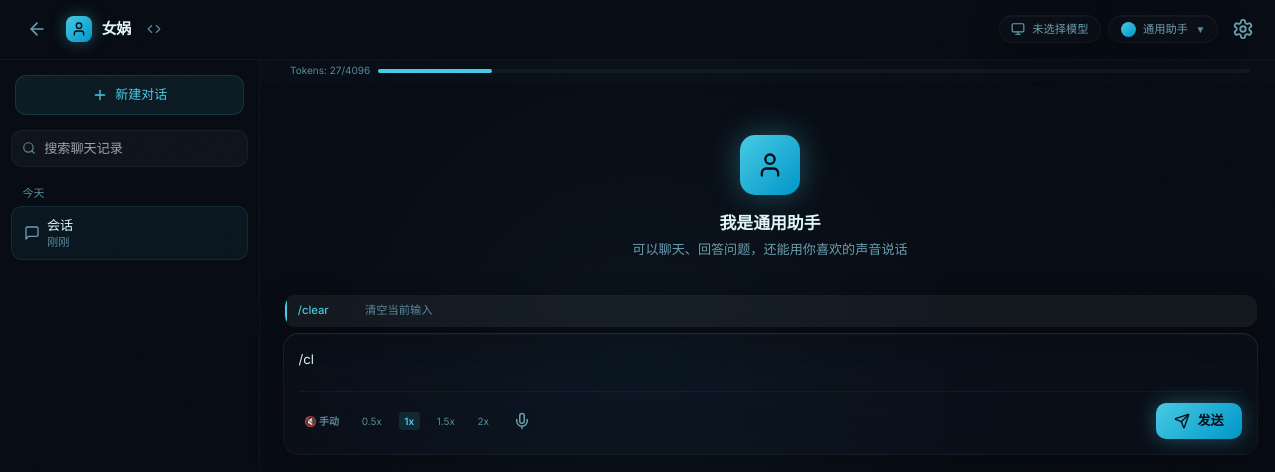
Scenario: 内置命令分发 (Req 5.2, 5.4, 5.5, 5.7) › /clear 清空输入并关闭菜单
Replace the text in the text box with placeholder "输入消息..." with "/clear" at (770, 361), box [298,349,1242,373]
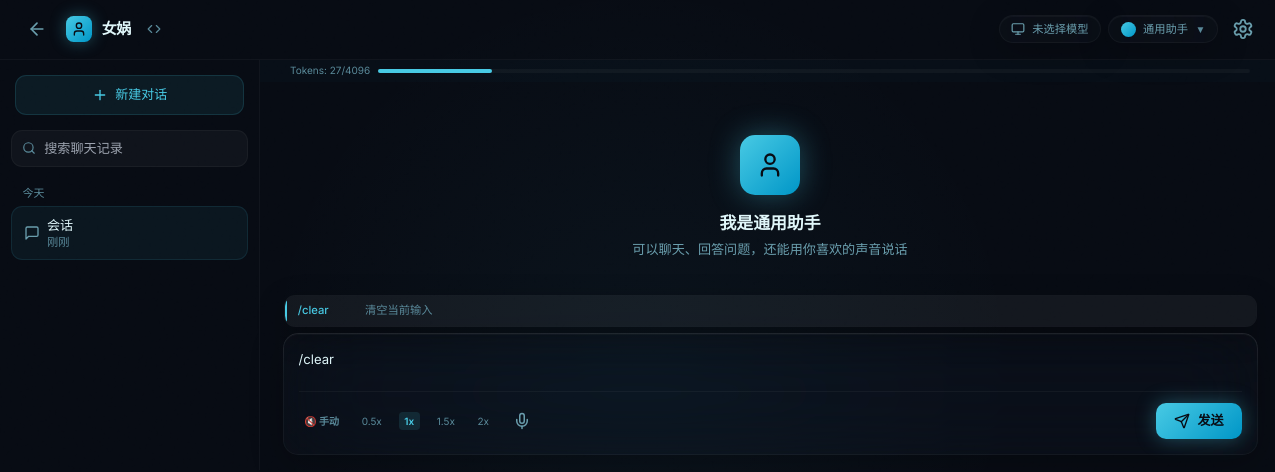
Press Enter in the text box with placeholder "输入消息...", box [298,349,1242,373]
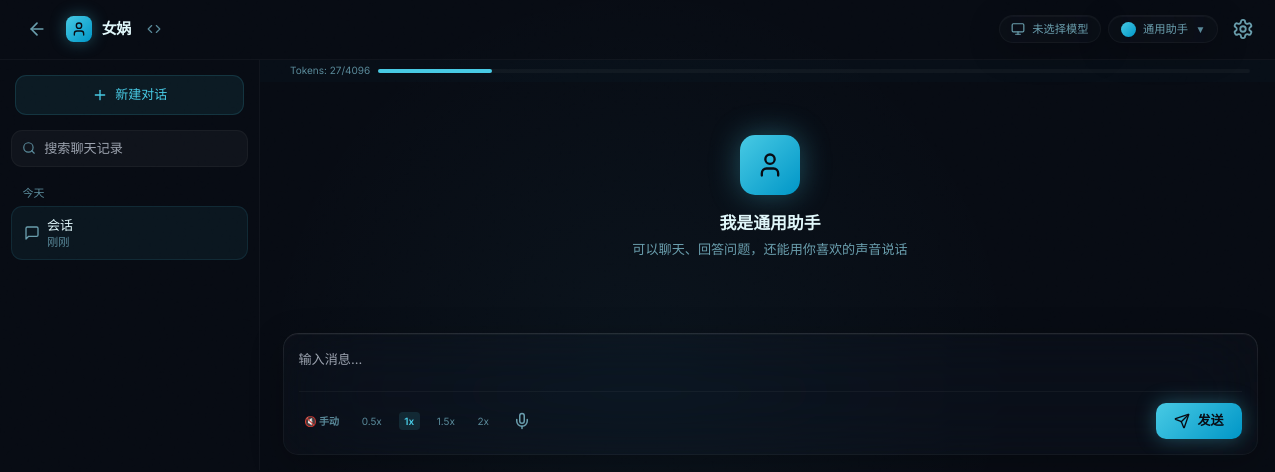
expect the list with test id "slash-command-menu" is gone: met
